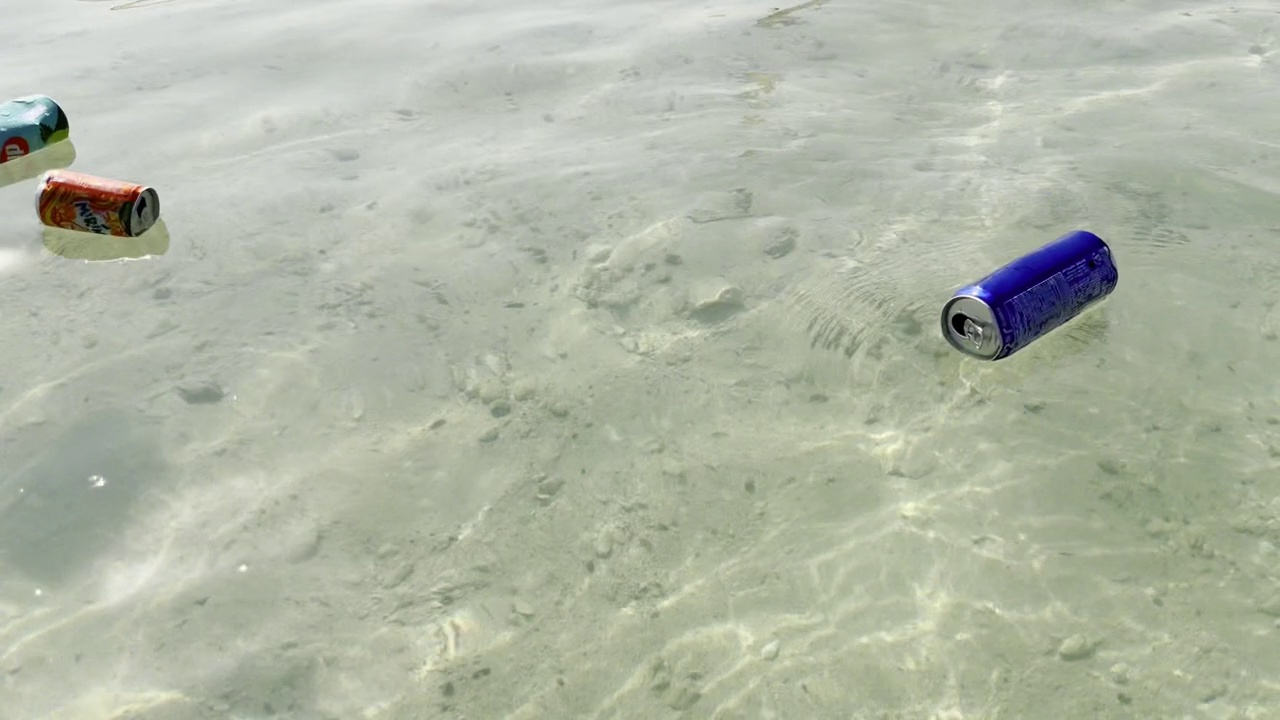debris: (930, 223, 1126, 368), (25, 154, 165, 248), (0, 84, 71, 170)
